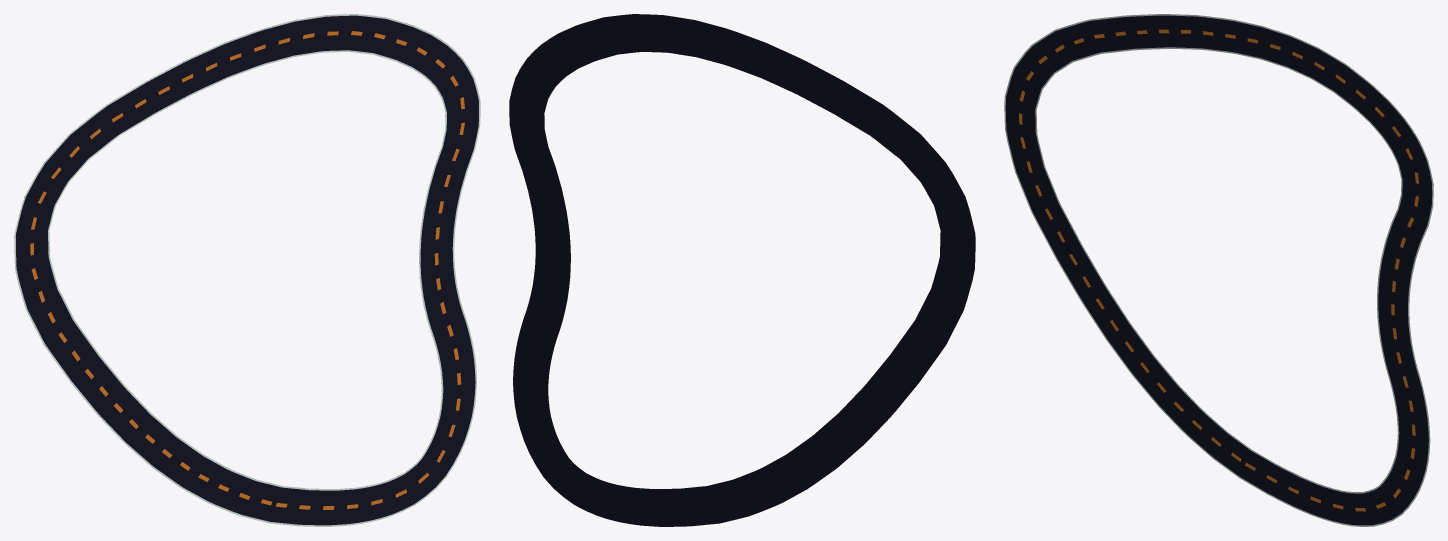
File: track.obj
3 renders of one model, left to right at view 1: azimuth 30°, elevation 25°; view 2: azimuth 150°, elevation 25°; view 3: azimuth 330°, elevation 25°, orthographic. The views are drawn at different scales.
Size of the model in its own units: 12.41 by 13.24 by 0.002.
Materials: 3 (3 with a texture image).
